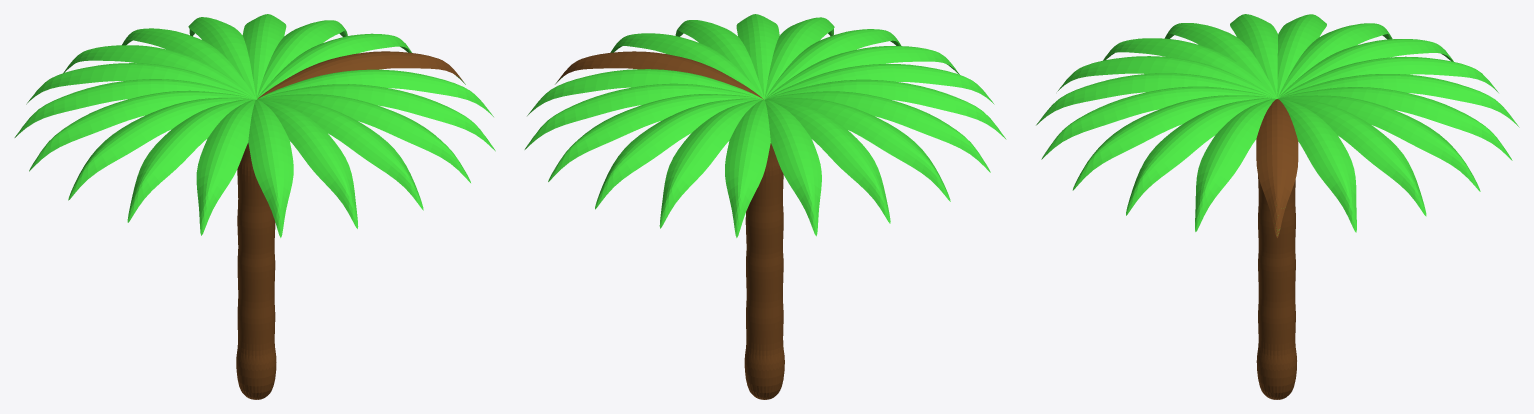
Rendered from tree.fbx.
3 views of the same model, side by side, from view 1: azimuth 30°, elevation 25°; view 2: azimuth 150°, elevation 25°; view 3: azimuth 270°, elevation 25° (orthographic).
Parts seen in each view (by area): view 1: Plane.005; view 2: Plane.005; view 3: Plane.005.
Boxes of the visible parts, x1,y1,x2,y2 form: Plane.005: [14, 14, 495, 399]; Plane.005: [524, 14, 1006, 399]; Plane.005: [1036, 14, 1519, 399].
Size of the model in its own units: 5248 by 3840 by 5262.
